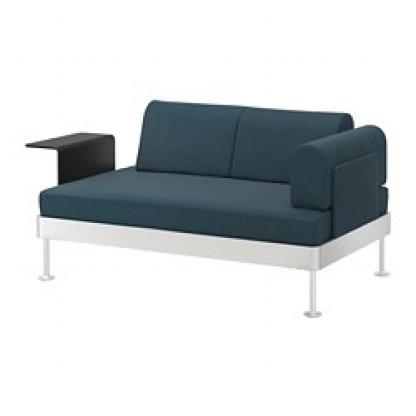Sofa: (17, 55, 401, 331)
